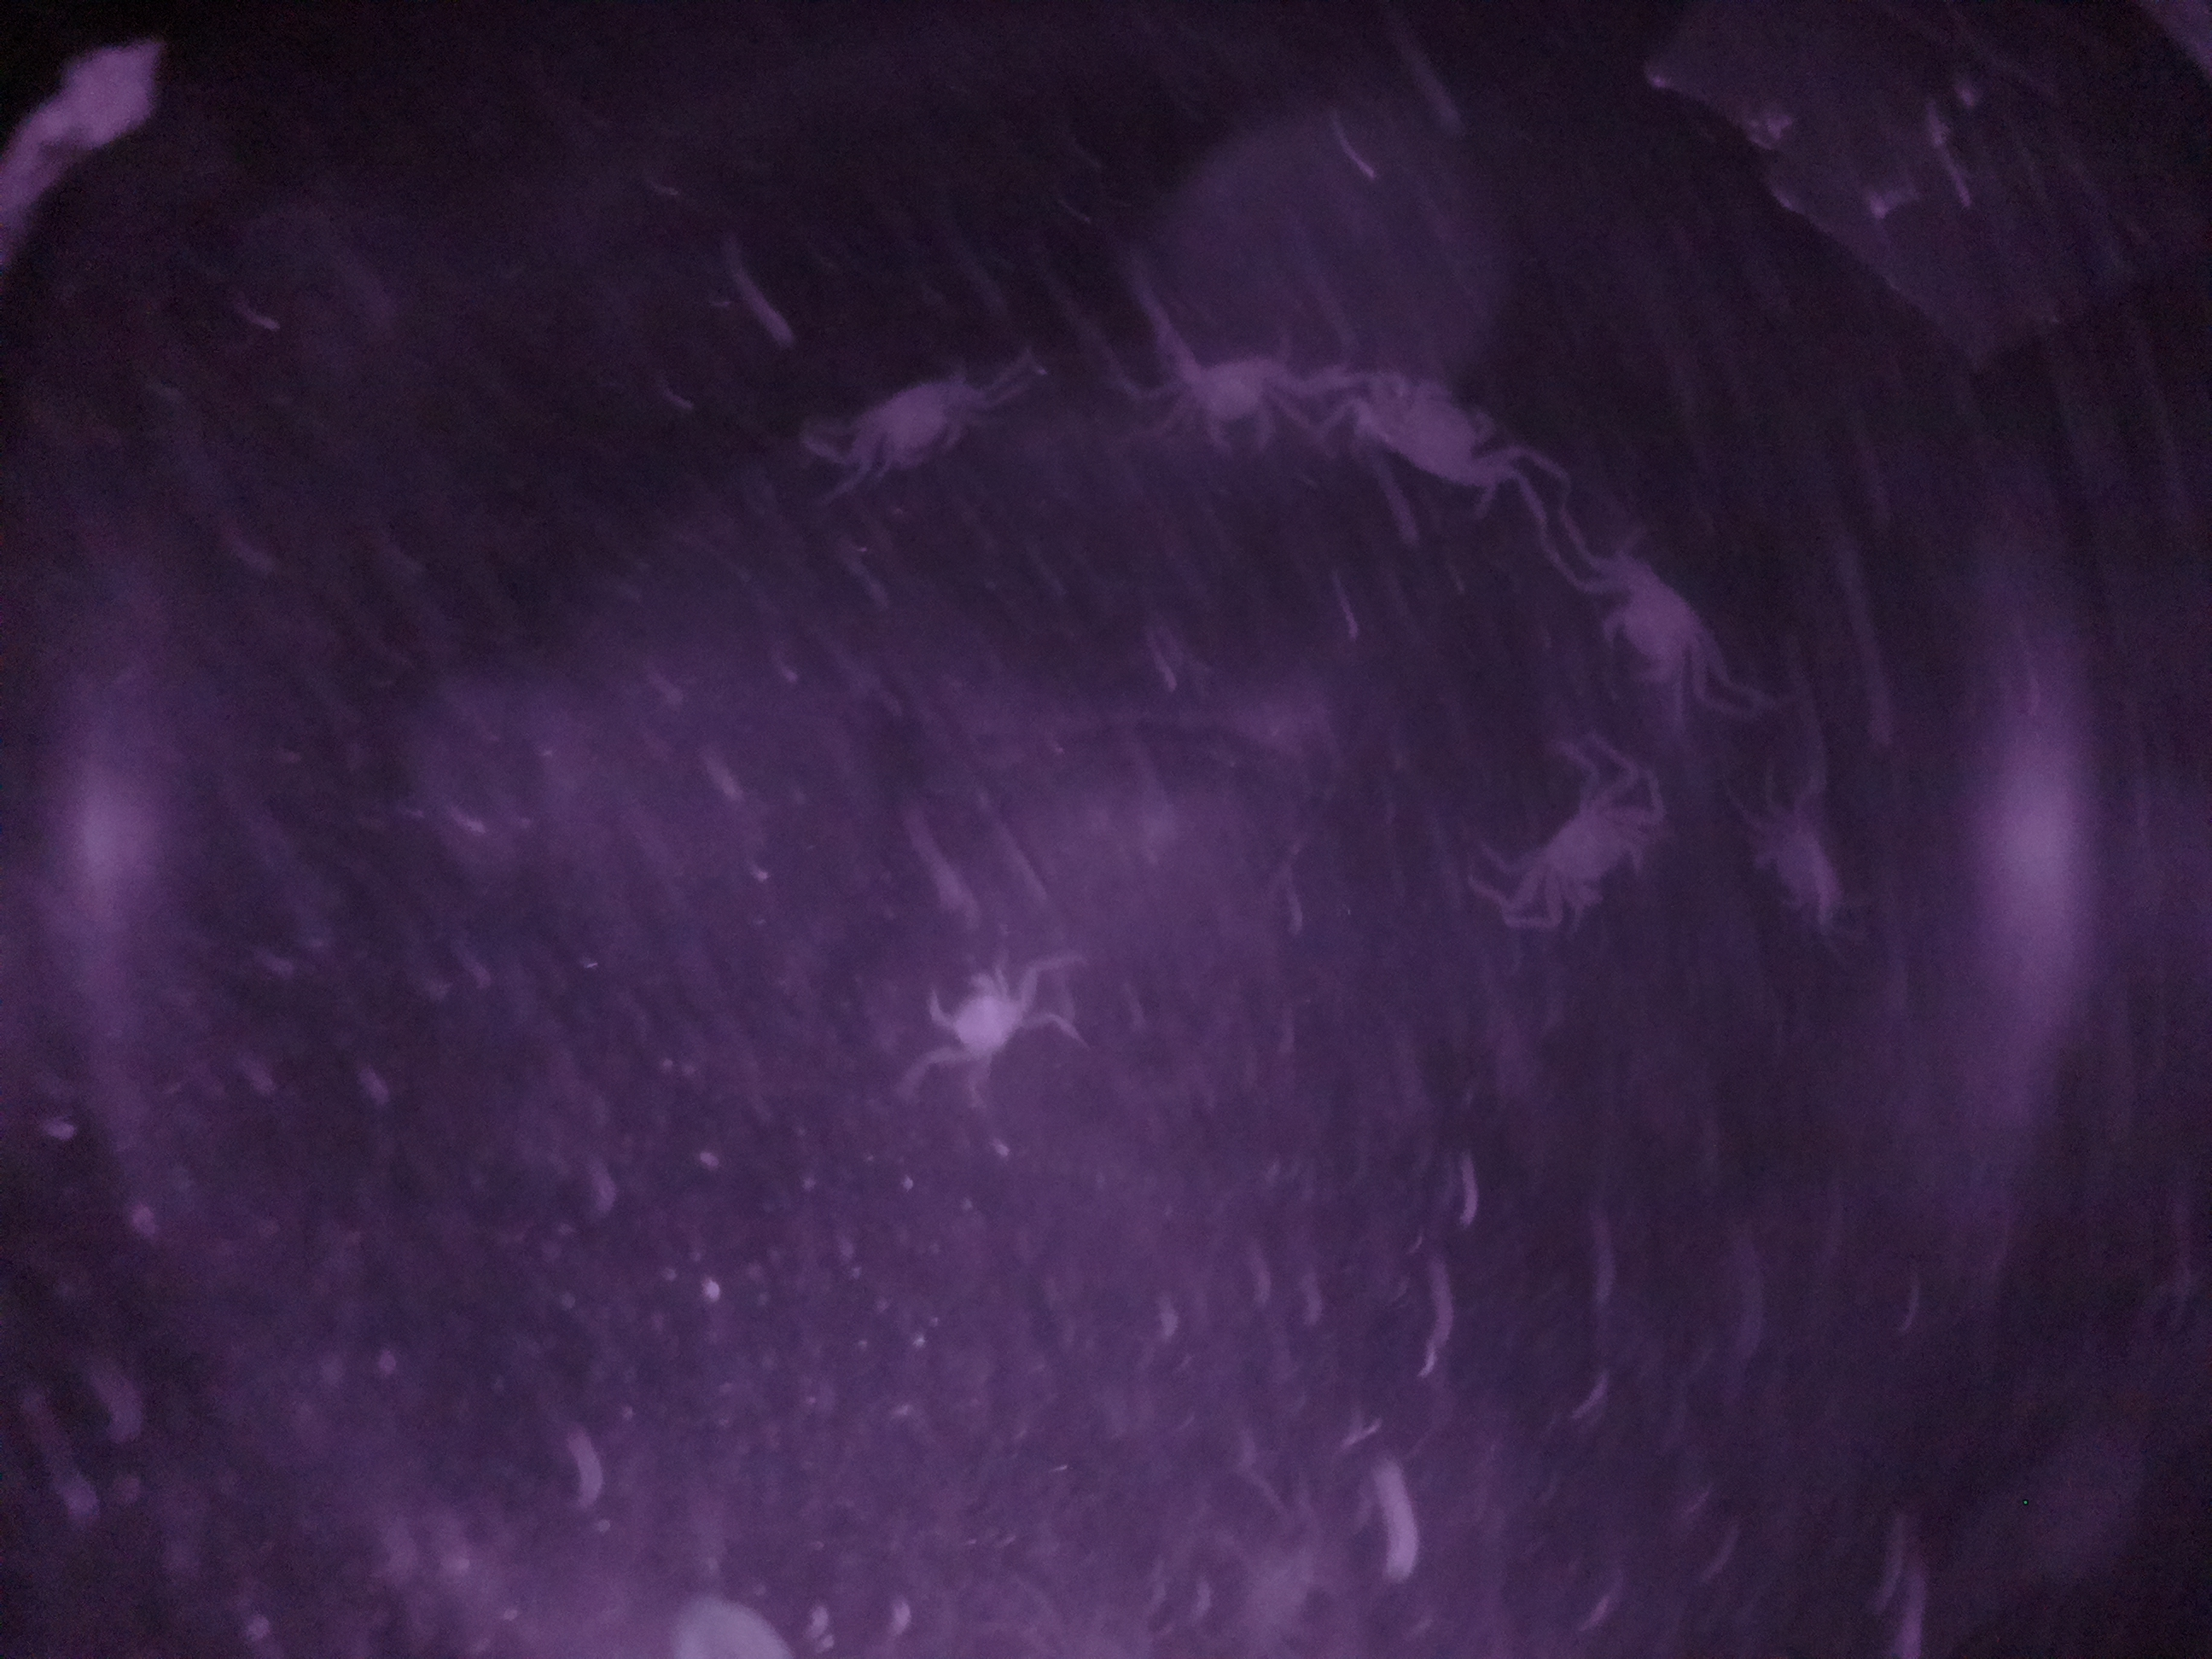Crab: (1575, 554, 1740, 704), (1514, 784, 1663, 920), (1379, 364, 1522, 495)
